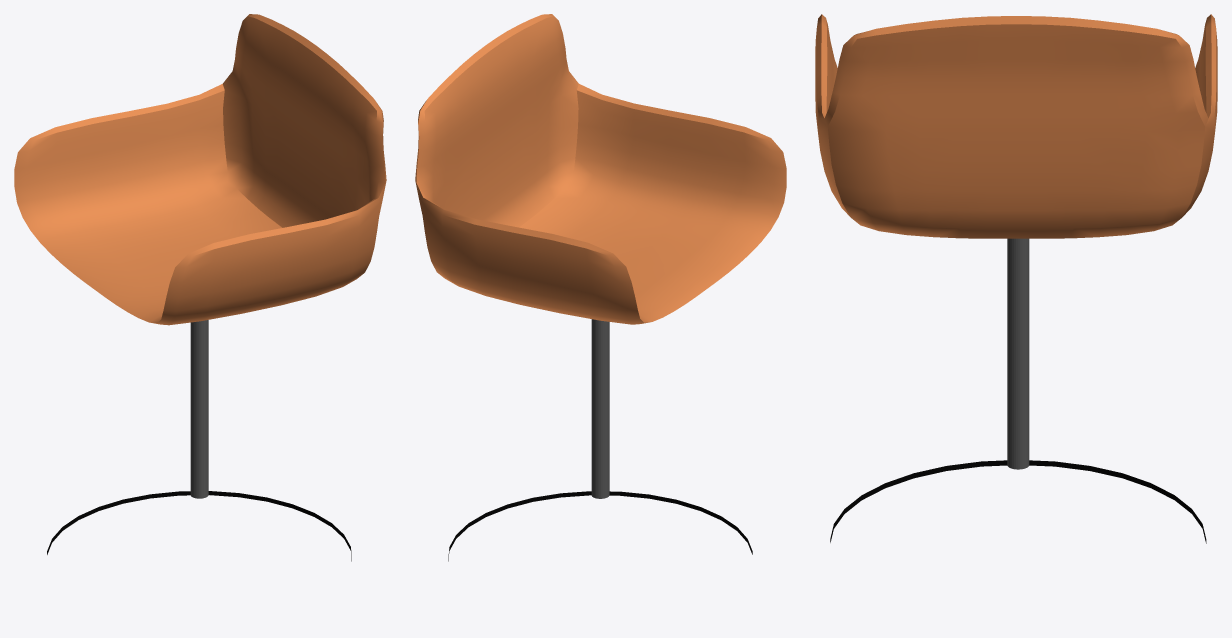
Rendered from sceneCo.gltf.
3 views of the same model, side by side, from view 1: azimuth 30°, elevation 25°; view 2: azimuth 150°, elevation 25°; view 3: azimuth 270°, elevation 25° (orthographic). The views are drawn at different scales.
Parts seen in each view (by area): view 1: Cube_3, Circle_2, Circle.001_4; view 2: Cube_3, Circle_2, Circle.001_4; view 3: Cube_3, Circle_2, Circle.001_4.
Boxes of the visible parts, x1,y1,x2,y2 form: Cube_3: (14, 14, 386, 325); Circle_2: (190, 320, 208, 498); Circle.001_4: (47, 491, 351, 561); Cube_3: (415, 14, 786, 324); Circle_2: (591, 319, 609, 498); Circle.001_4: (448, 491, 752, 561); Cube_3: (815, 14, 1217, 238); Circle_2: (1007, 238, 1029, 469); Circle.001_4: (830, 460, 1206, 543).
Bounding box in the file's own units: 1.3 × 2.29 × 1.4.
